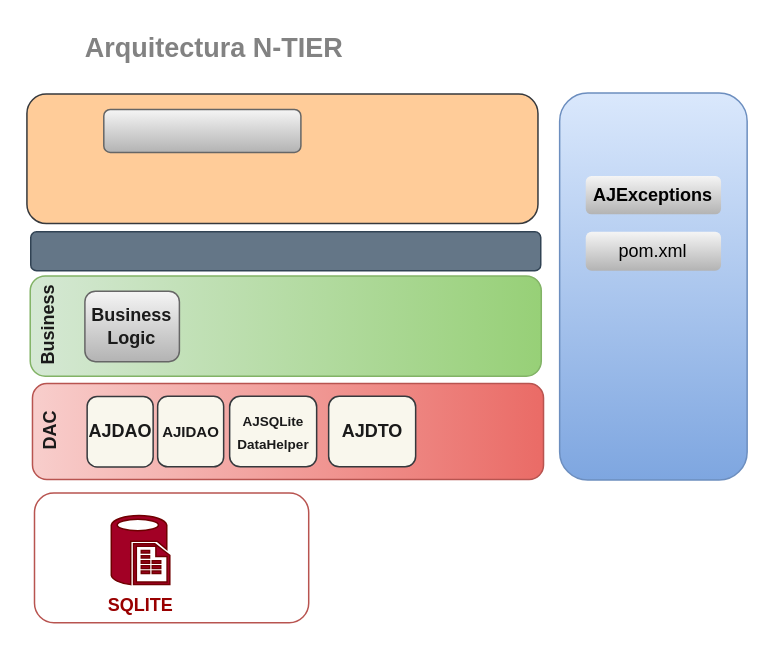
Image size: 774x650. Some labels were removed from this diagram. Each missing label, with the box of its shape:
AJUserInterface: (102, 108, 301, 152)
Data Sources: (33, 492, 309, 623)
Framework: (558, 92, 747, 480)
User Interface: (26, 93, 538, 224)
